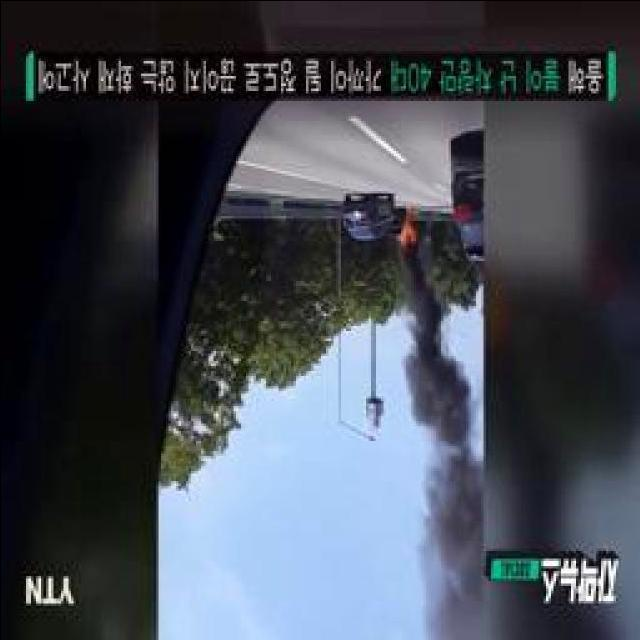Fire: (397, 214, 418, 238)
